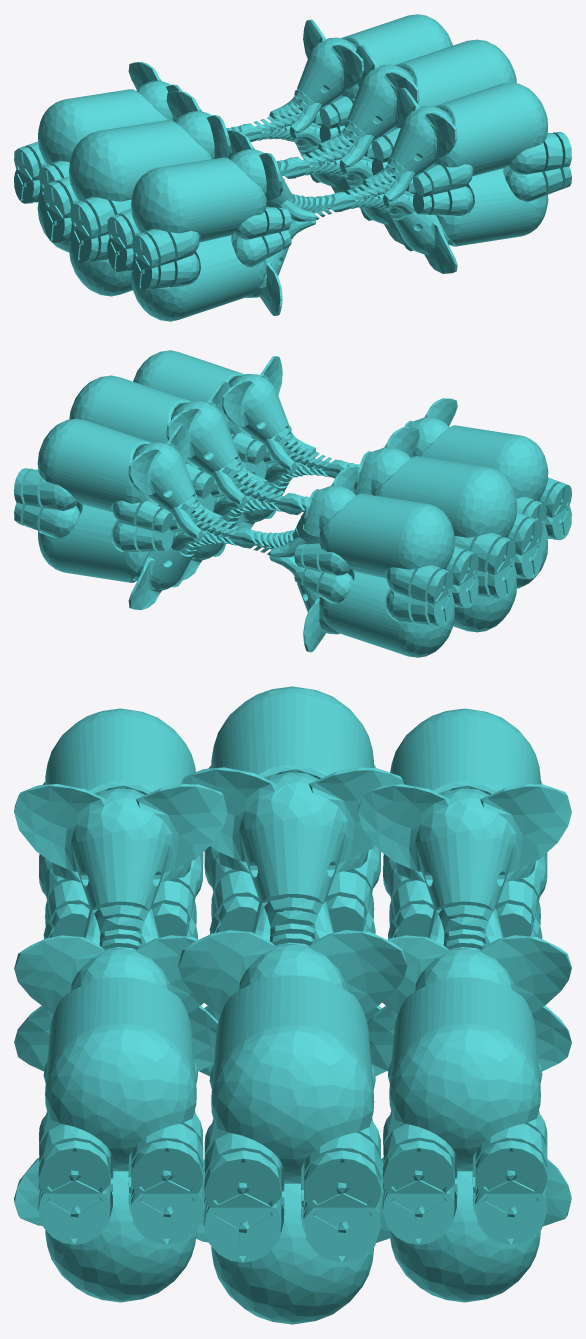
Rendered from 8elephant_remade_low2.gltf.
The picture shows the model from 3 angles, top to bottom: view 1: azimuth 30°, elevation 25°; view 2: azimuth 150°, elevation 25°; view 3: azimuth 270°, elevation 25°; orthographic projection. The views are drawn at different scales.
Visible parts, largest first — view 1: LFS Elephant low2.004, LFS Elephant low2.005, LFS Elephant low2, LFS Elephant low2.007, LFS Elephant low2.001, LFS Elephant low2.006, LFS Elephant low2.002, LFS Elephant low2.003, LFS Elephant low2.010, LFS Elephant low2.011, LFS Elephant low2.008, LFS Elephant low2.009; view 2: LFS Elephant low2.003, LFS Elephant low2.002, LFS Elephant low2, LFS Elephant low2.008, LFS Elephant low2.001, LFS Elephant low2.009, LFS Elephant low2.005, LFS Elephant low2.004, LFS Elephant low2.010, LFS Elephant low2.011, LFS Elephant low2.007, LFS Elephant low2.006; view 3: LFS Elephant low2.001, LFS Elephant low2.002, LFS Elephant low2.005, LFS Elephant low2, LFS Elephant low2.003, LFS Elephant low2.004, LFS Elephant low2.011, LFS Elephant low2.007, LFS Elephant low2.008, LFS Elephant low2.009, LFS Elephant low2.006, LFS Elephant low2.010.
Part boxes in pixels (<box>): LFS Elephant low2.004: <box>107,130,343,268</box>; LFS Elephant low2.005: <box>338,82,571,204</box>; LFS Elephant low2: <box>43,91,296,238</box>; LFS Elephant low2.007: <box>341,166,571,273</box>; LFS Elephant low2.001: <box>291,39,516,170</box>; LFS Elephant low2.006: <box>107,204,343,321</box>; LFS Elephant low2.002: <box>244,14,452,135</box>; LFS Elephant low2.003: <box>14,62,250,189</box>; LFS Elephant low2.010: <box>43,170,297,296</box>; LFS Elephant low2.011: <box>295,137,403,244</box>; LFS Elephant low2.008: <box>249,105,351,194</box>; LFS Elephant low2.009: <box>14,136,250,252</box>; LFS Elephant low2.003: <box>242,466,478,604</box>; LFS Elephant low2.002: <box>14,418,248,540</box>; LFS Elephant low2: <box>289,427,542,574</box>; LFS Elephant low2.008: <box>14,502,245,609</box>; LFS Elephant low2.001: <box>69,375,295,506</box>; LFS Elephant low2.009: <box>242,541,478,657</box>; LFS Elephant low2.005: <box>133,350,342,471</box>; LFS Elephant low2.004: <box>336,398,571,524</box>; LFS Elephant low2.010: <box>289,507,542,632</box>; LFS Elephant low2.011: <box>182,476,291,580</box>; LFS Elephant low2.007: <box>234,446,336,530</box>; LFS Elephant low2.006: <box>336,472,571,588</box>; LFS Elephant low2.001: <box>178,930,407,1207</box>; LFS Elephant low2.002: <box>382,935,571,1193</box>; LFS Elephant low2.005: <box>14,935,203,1193</box>; LFS Elephant low2: <box>181,686,403,946</box>; LFS Elephant low2.003: <box>358,708,571,950</box>; LFS Elephant low2.004: <box>14,708,227,950</box>; LFS Elephant low2.011: <box>196,1118,389,1324</box>; LFS Elephant low2.007: <box>14,1110,205,1302</box>; LFS Elephant low2.008: <box>381,1110,571,1302</box>; LFS Elephant low2.009: <box>367,853,571,1071</box>; LFS Elephant low2.006: <box>14,852,218,1071</box>; LFS Elephant low2.010: <box>199,846,386,1076</box>.
Bounding box in the file's own units: 179 × 63.47 × 103.
